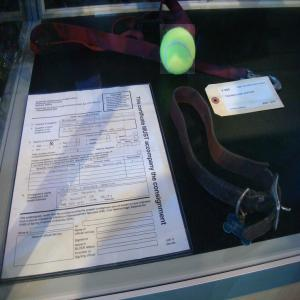TennisBall: (161, 25, 197, 76)
